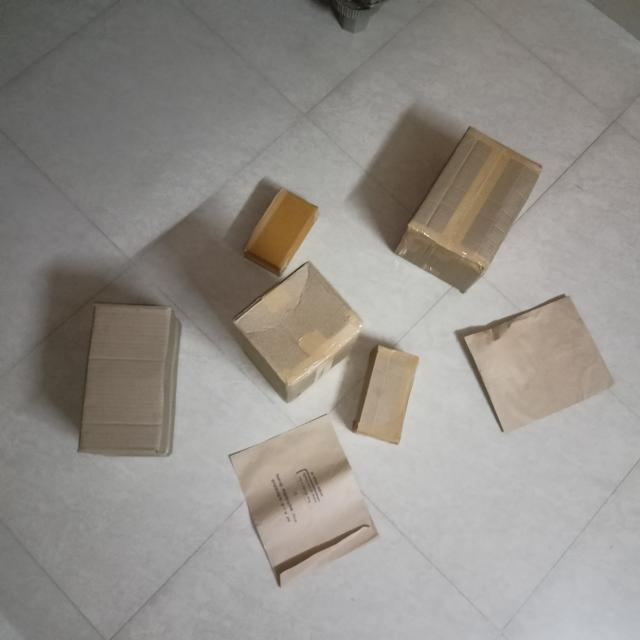box: (232, 413, 380, 590), (463, 287, 616, 435), (414, 127, 550, 270), (238, 259, 369, 386), (92, 304, 174, 461), (248, 186, 317, 274), (360, 345, 417, 441)
